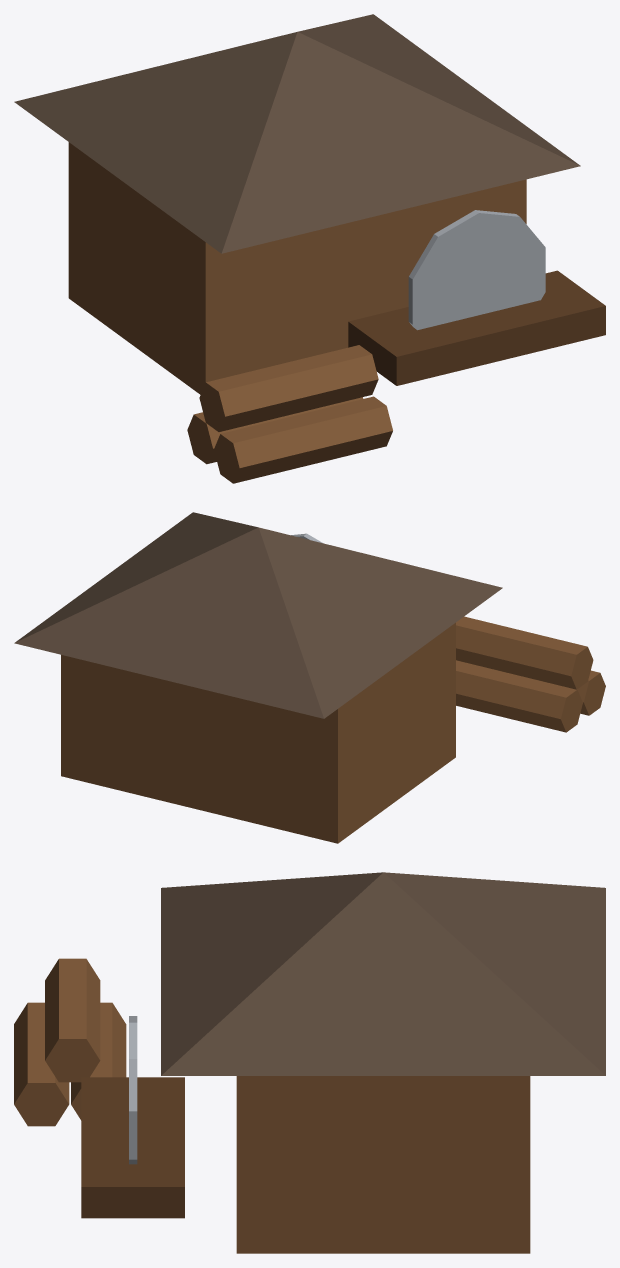
The model's file is sawmill.glb.
3 renders of one model, top to bottom at view 1: azimuth 30°, elevation 25°; view 2: azimuth 150°, elevation 25°; view 3: azimuth 270°, elevation 25°, orthographic. The views are drawn at different scales.
Visible parts, largest first — view 1: sawmill; view 2: sawmill; view 3: sawmill.
Part boxes in pixels (box(x1,y1,x2,y2)): sawmill: box(14, 14, 605, 483); sawmill: box(14, 512, 605, 843); sawmill: box(14, 872, 605, 1253).
Size of the model in its own units: 0.2938 by 0.19 by 0.3428.
